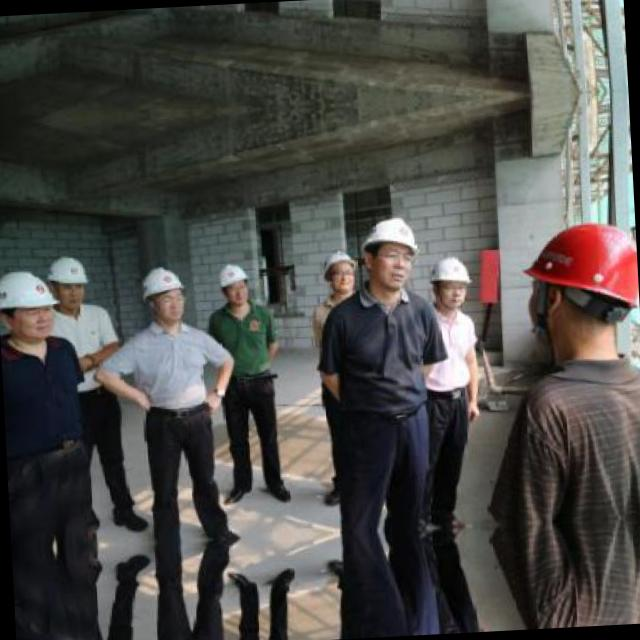helmet: (519, 214, 640, 368), (361, 212, 424, 294), (0, 268, 61, 339), (133, 264, 190, 325), (426, 250, 474, 312), (46, 251, 91, 307), (320, 248, 361, 302), (214, 259, 250, 307)
